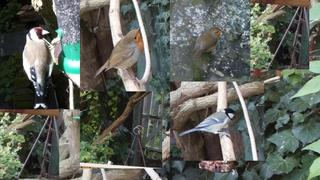goldfinch: (22, 27, 53, 109)
great tit: (178, 108, 238, 138)
robin: (92, 27, 143, 82), (192, 27, 224, 61)
